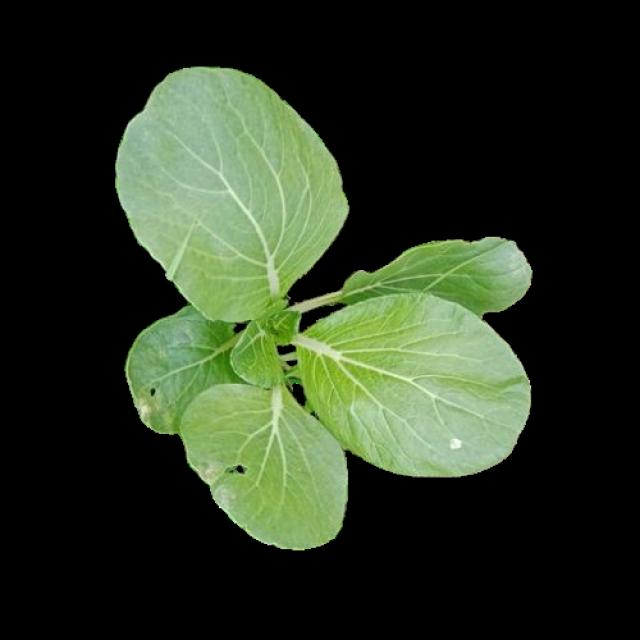mature: (114, 63, 530, 549)
unhealthy: (183, 384, 347, 547), (124, 311, 251, 434)
